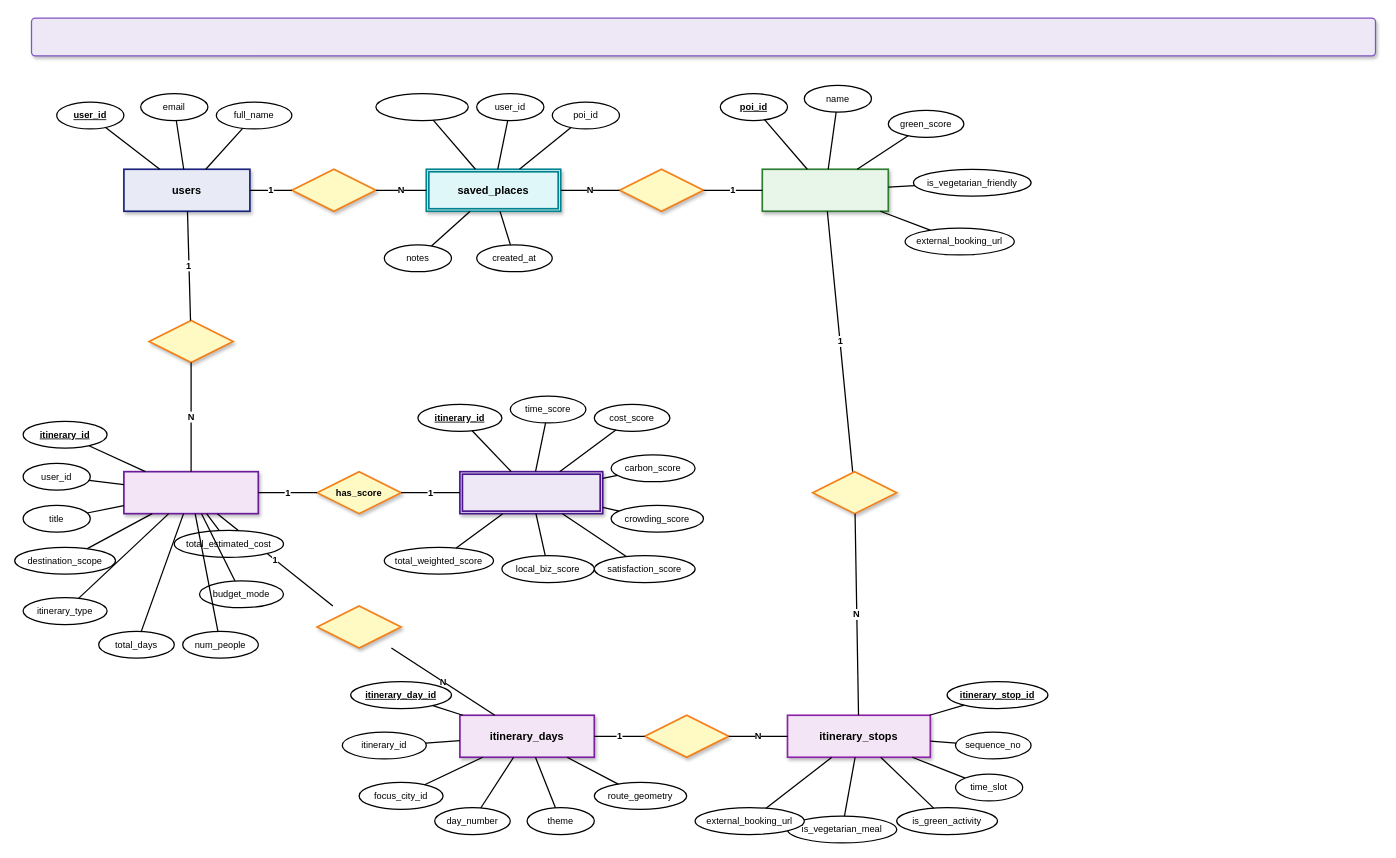
Some shapes in this 1396 by 858 pixel diagram are drawn without their labels. The centre of each missing label's shape, as x and y in pixels:
"bookmarks" belongs at point 334,191.
"GreenTrip AI — Sprint 3: Entity Relationship Diagram (Chen Notation)" belongs at point 704,38.
"has_day" belongs at point 359,627.
"has_stop" belongs at point 687,737.
"itineraries" belongs at point 191,493.
"itinerary_scores" belongs at point 531,493.
"owns" belongs at point 191,342.
"pois" belongs at point 826,191.
"refs_poi" belongs at point 662,191.
"saved_place_id" belongs at point 422,107.
"visits_poi" belongs at point 855,493.
